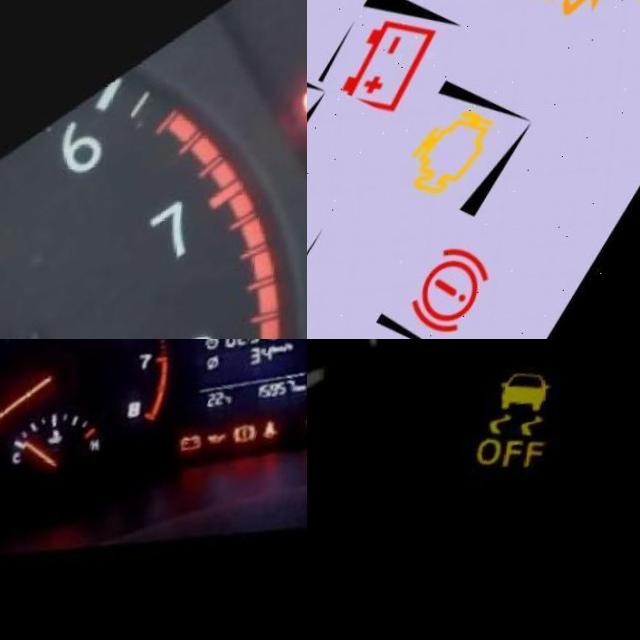Engine cooling system: (45, 423, 71, 448)
